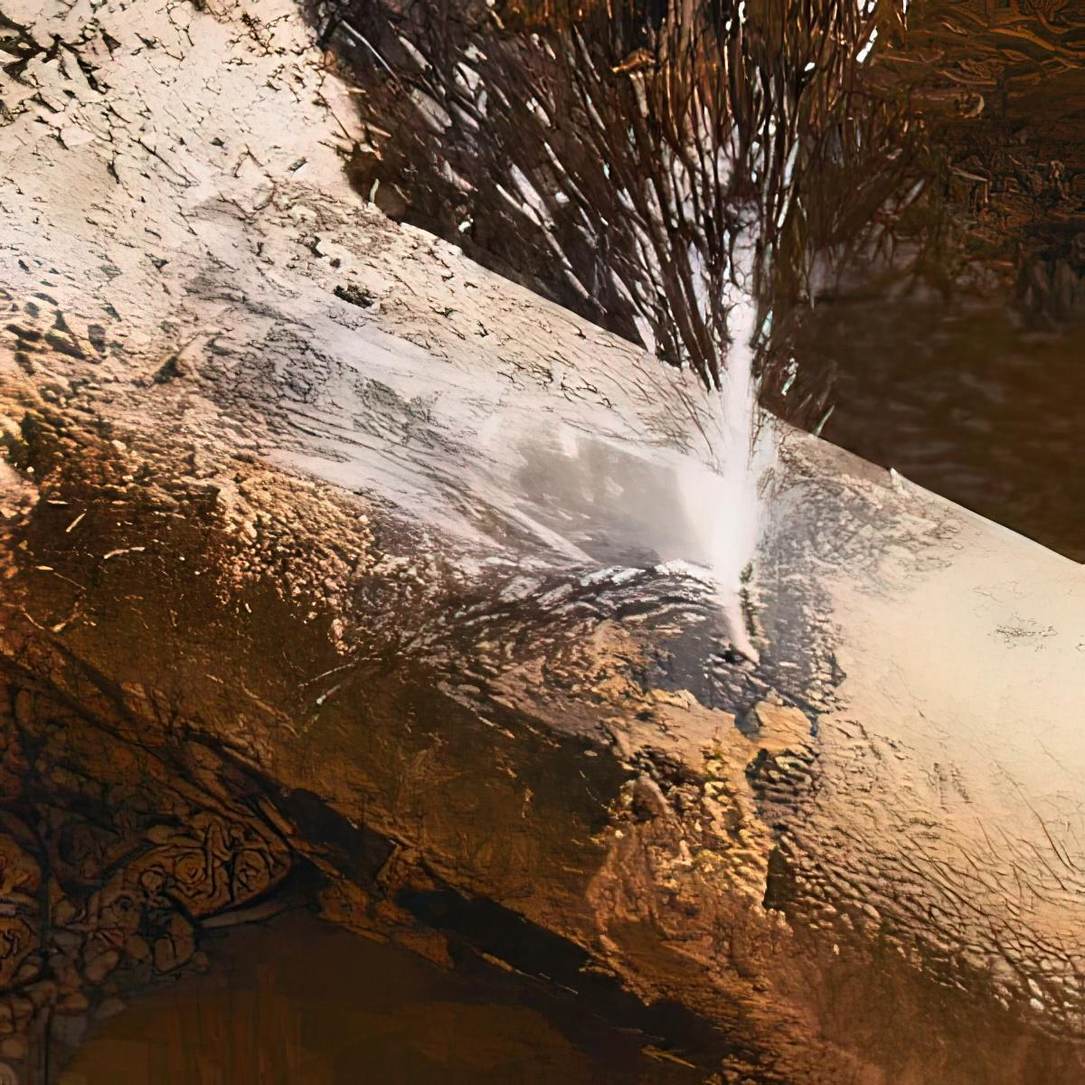pipe burst: (166, 269, 793, 684)
water accumulation: (611, 289, 1085, 568), (47, 902, 710, 1085)
